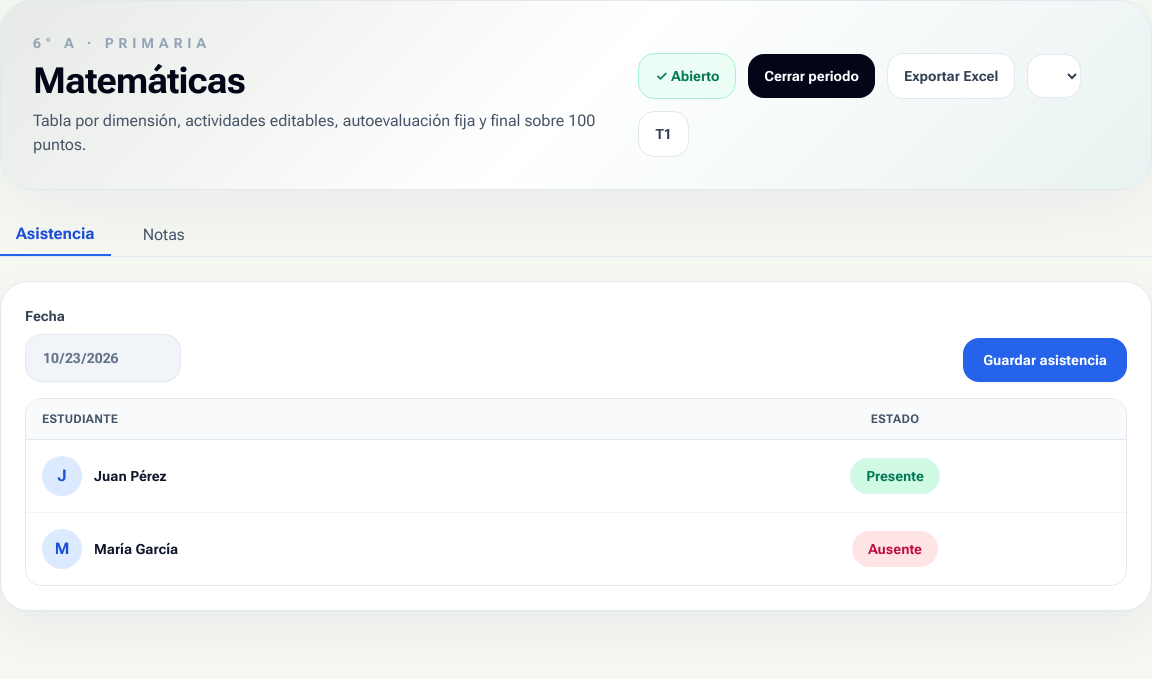
Scenario: CourseDetailPage › cambia entre pestañas de Asistencia y Notas
expect the button "Asistencia" is shown: met, box [0,214,111,256]
Click the button "Notas": (164, 235) [127,214,201,256]
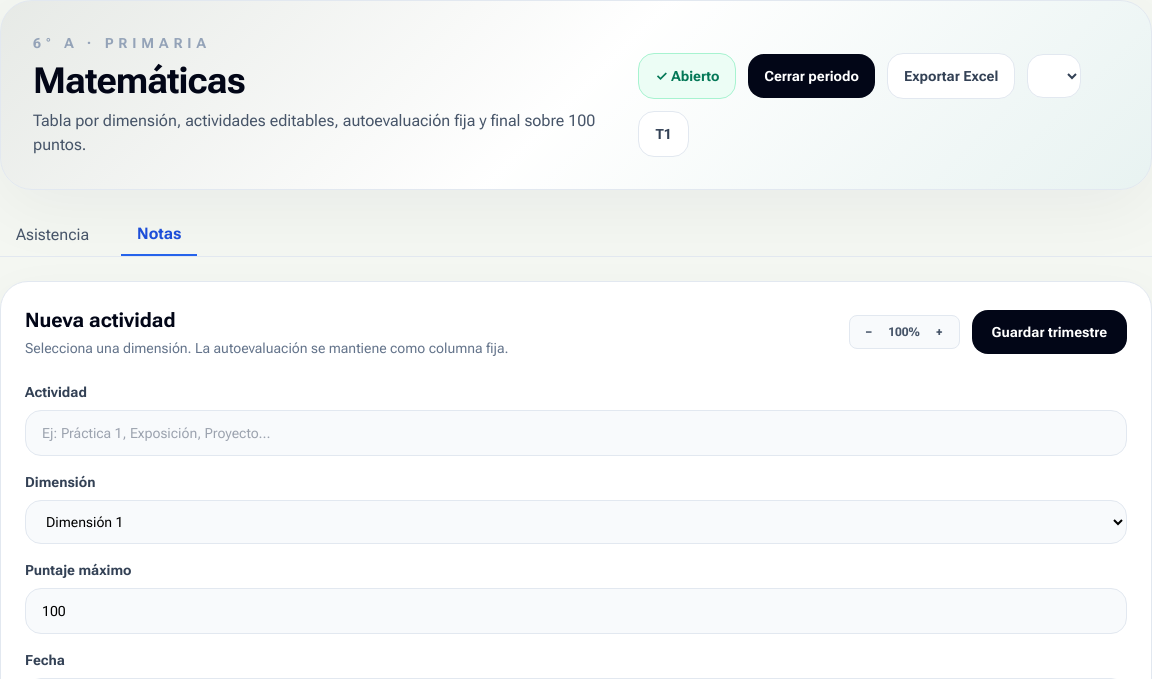
expect the heading "Nueva actividad" is shown: met, box [25,308,176,332]
